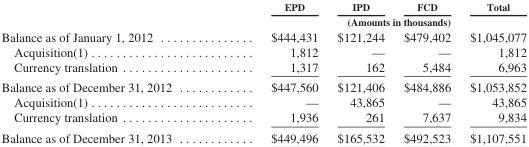table: (0, 0, 525, 144)
table column: (0, 0, 220, 144), (220, 0, 327, 144), (327, 0, 393, 144), (393, 0, 459, 144), (459, 0, 525, 144)
table column header: (0, 0, 525, 28)
table row: (0, 58, 525, 76), (0, 76, 525, 94), (0, 109, 525, 127), (0, 127, 525, 144), (0, 28, 525, 43), (0, 43, 525, 58), (0, 94, 525, 109), (0, 0, 525, 14), (0, 14, 525, 28)
table spanning cell: (220, 14, 525, 28)
